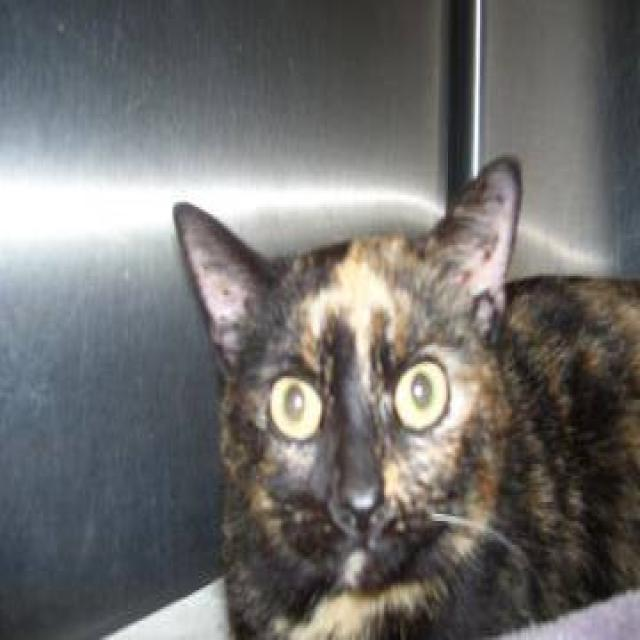Cat: (162, 156, 536, 588)
